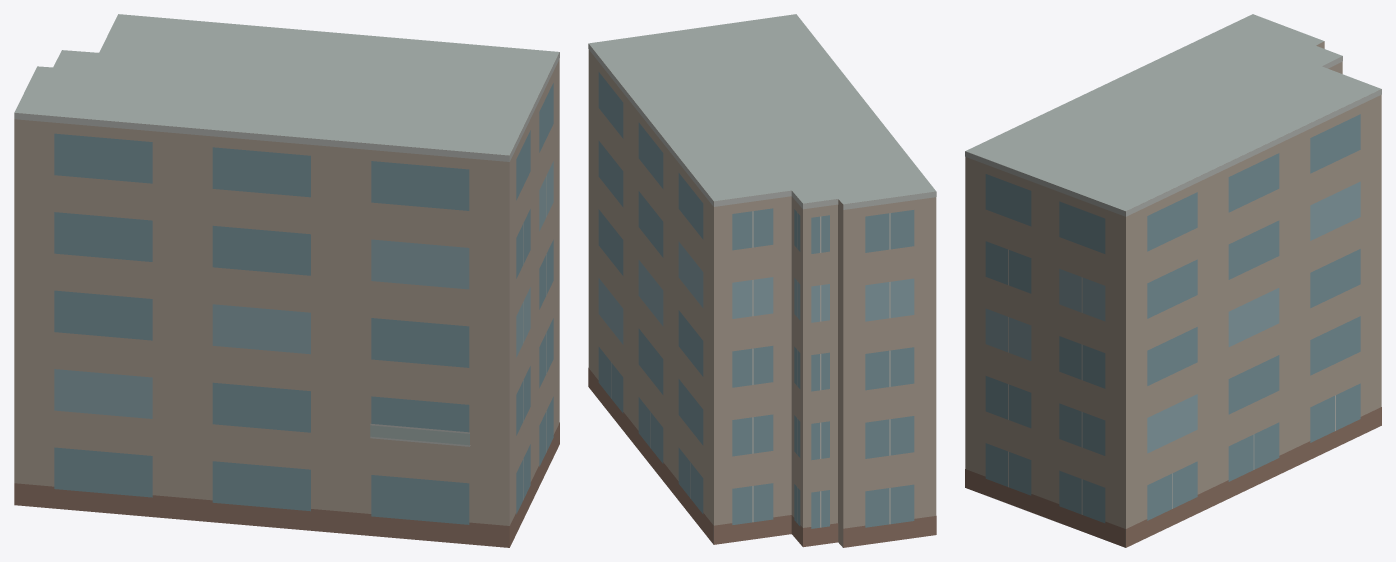
File: survey-upis-32867619.glb
3 views of the same model, side by side, from view 1: azimuth 30°, elevation 25°; view 2: azimuth 150°, elevation 25°; view 3: azimuth 270°, elevation 25° (orthographic). The views are drawn at different scales.
Parts seen in each view (by area): view 1: survey-upis-32867619.tmp; view 2: survey-upis-32867619.tmp; view 3: survey-upis-32867619.tmp.
Part boxes in pixels (box(x1,y1,x2,y2)): survey-upis-32867619.tmp: box(14, 14, 559, 547); survey-upis-32867619.tmp: box(588, 14, 936, 547); survey-upis-32867619.tmp: box(965, 14, 1381, 547).
Bounding box in the file's own units: 18.62 × 14.8 × 16.61.
